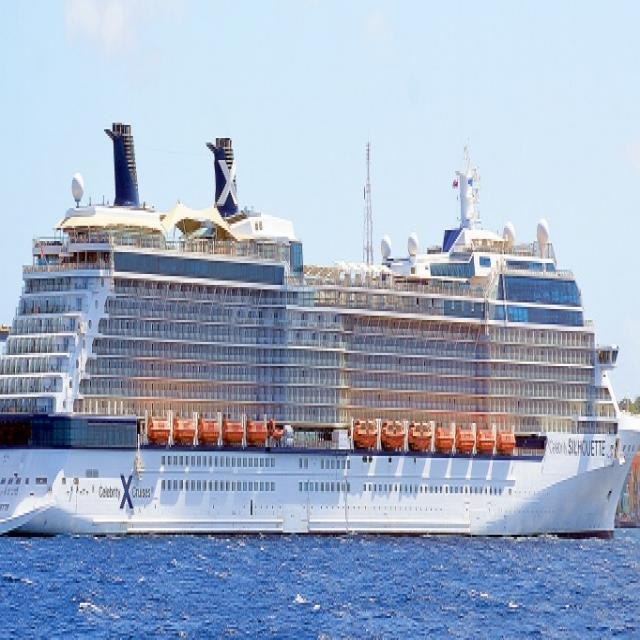cruises: (1, 115, 640, 549)
